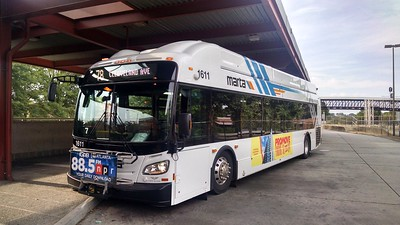bus: (66, 40, 321, 208)
